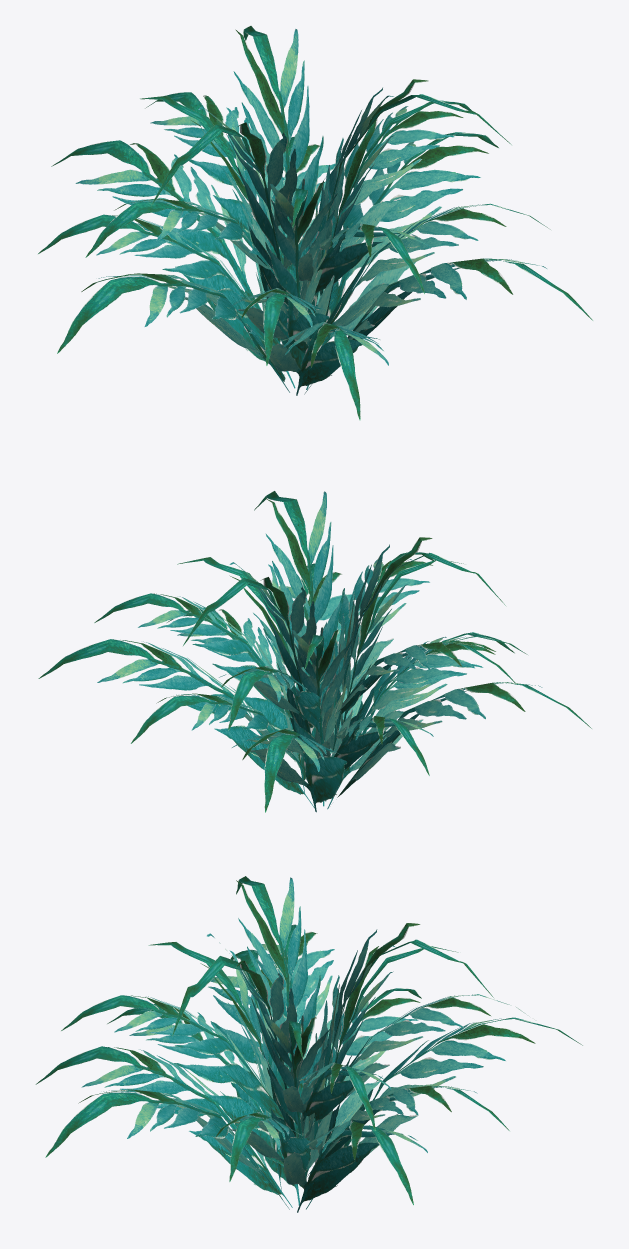
Rendered from brush2.fbx.
3 renders of one model, top to bottom at view 1: azimuth 30°, elevation 25°; view 2: azimuth 150°, elevation 25°; view 3: azimuth 270°, elevation 25°, orthographic. The views are drawn at different scales.
Visible parts, largest first — view 1: brush.001; view 2: brush.001; view 3: brush.001.
Part boxes in pixels (box(x1,y1,x2,y2)): brush.001: box(38, 26, 592, 420); brush.001: box(38, 491, 591, 812); brush.001: box(35, 876, 582, 1212).
Size of the model in its own units: 1.54 by 1.45 by 0.7941.
1 material, 1 textured.
